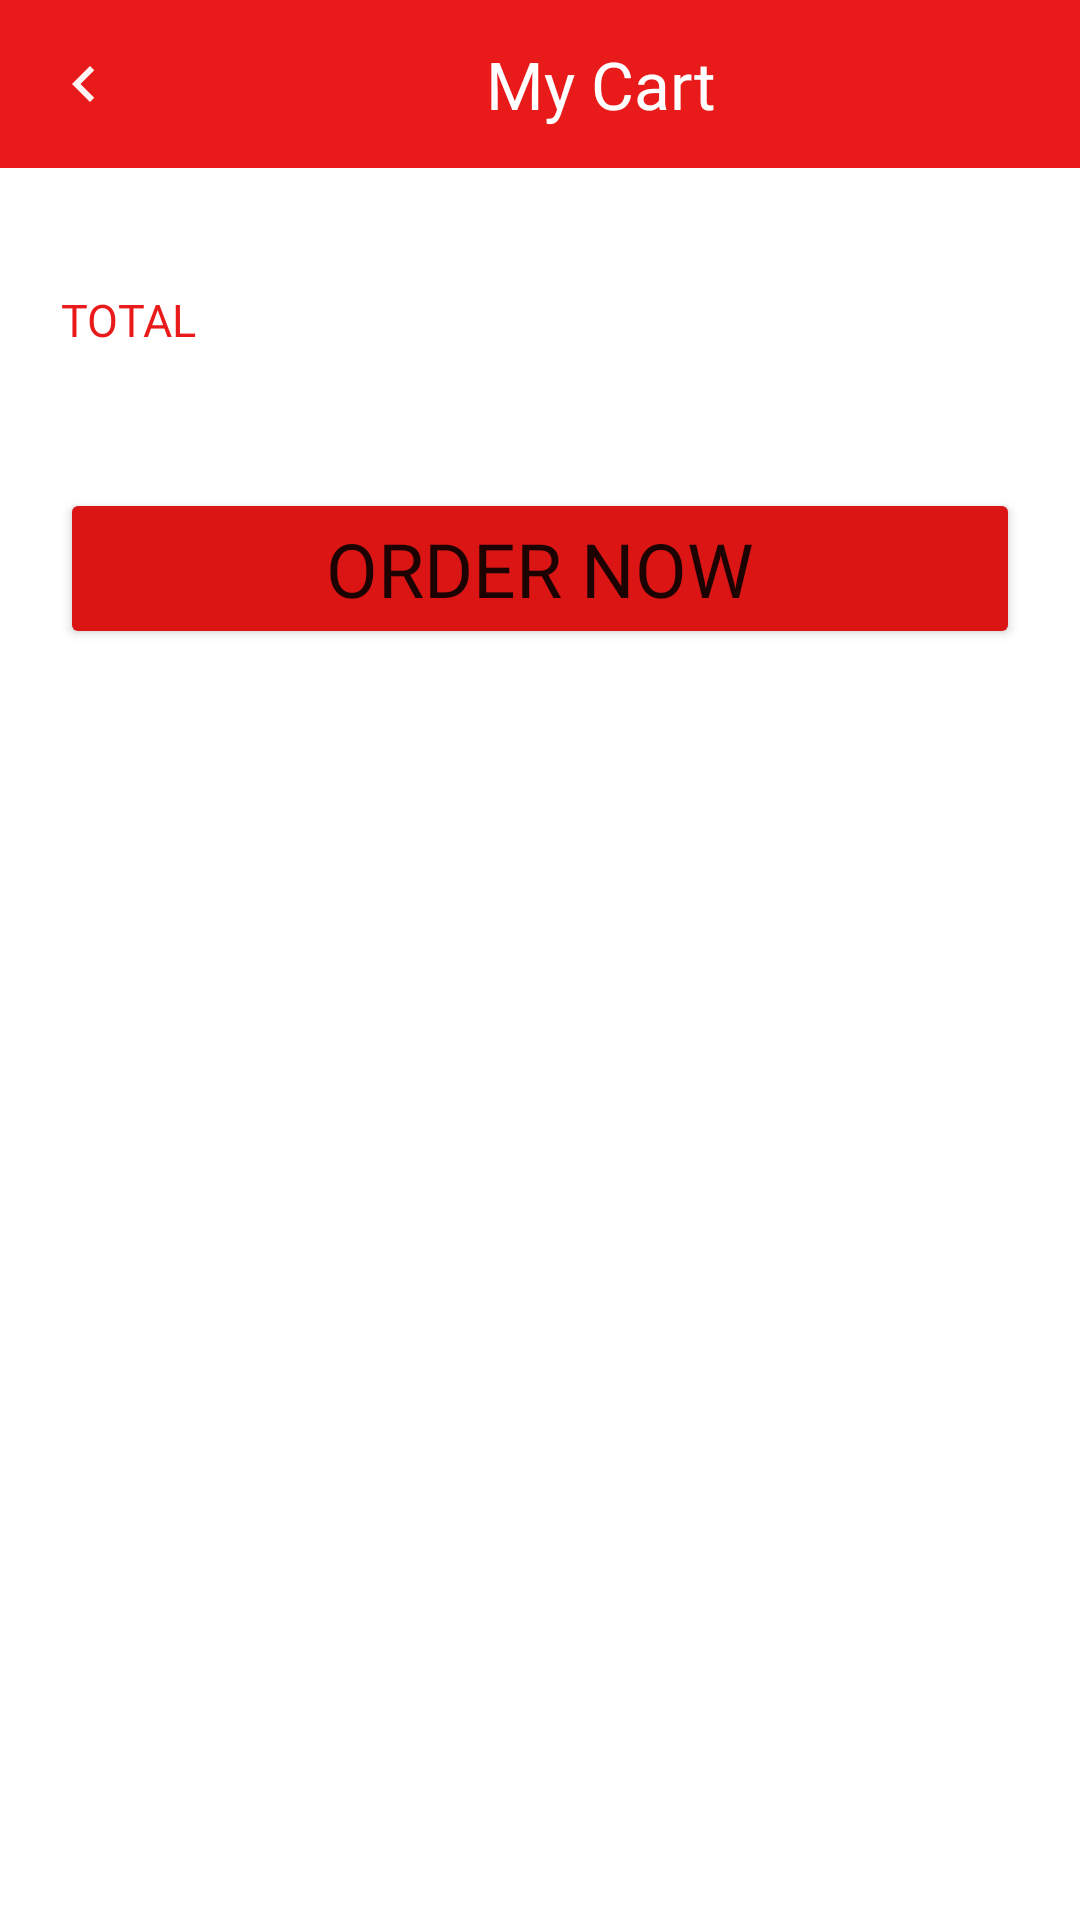

Screen size 1080 x 1920. Icon name, then its center in pixels as (x,y):
chevron left: (83,84)
